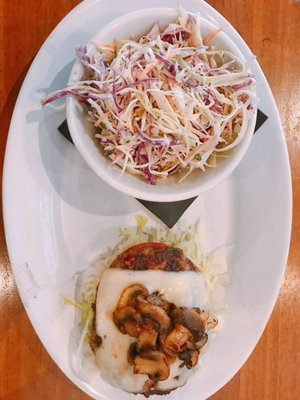sushi: (45, 3, 258, 203)
